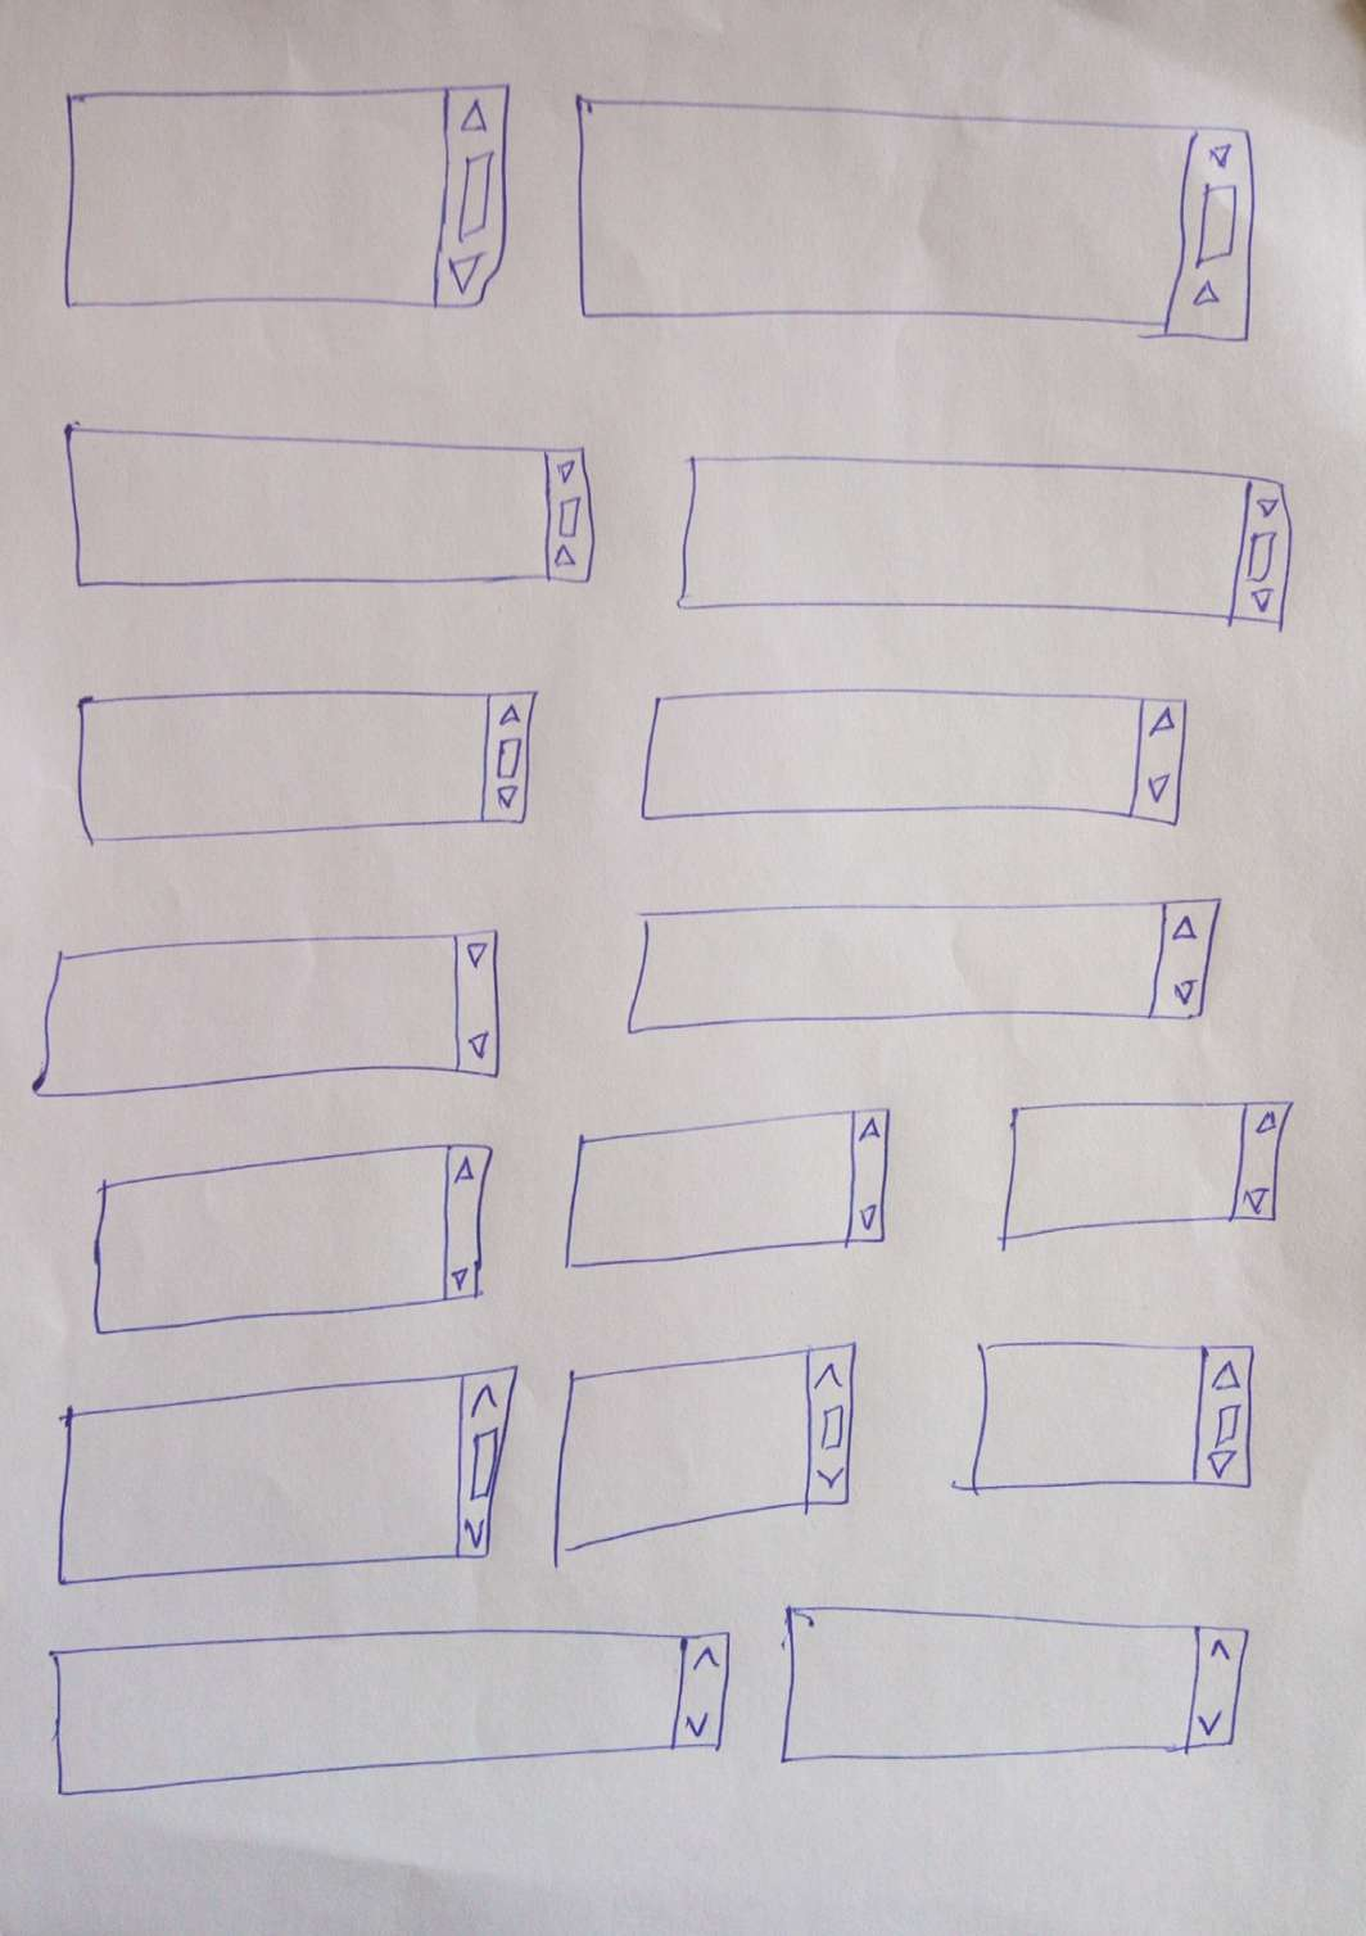Textarea: (568, 92, 1263, 347), (47, 1623, 736, 1803), (671, 446, 1298, 633), (56, 78, 517, 315), (53, 1363, 523, 1592), (59, 418, 602, 594), (772, 1598, 1254, 1773), (89, 1138, 501, 1340), (30, 930, 509, 1102), (627, 897, 1227, 1035), (633, 686, 1192, 829), (74, 686, 546, 850), (548, 1343, 862, 1569), (559, 1105, 894, 1275), (965, 1337, 1263, 1500), (998, 1100, 1298, 1244)
